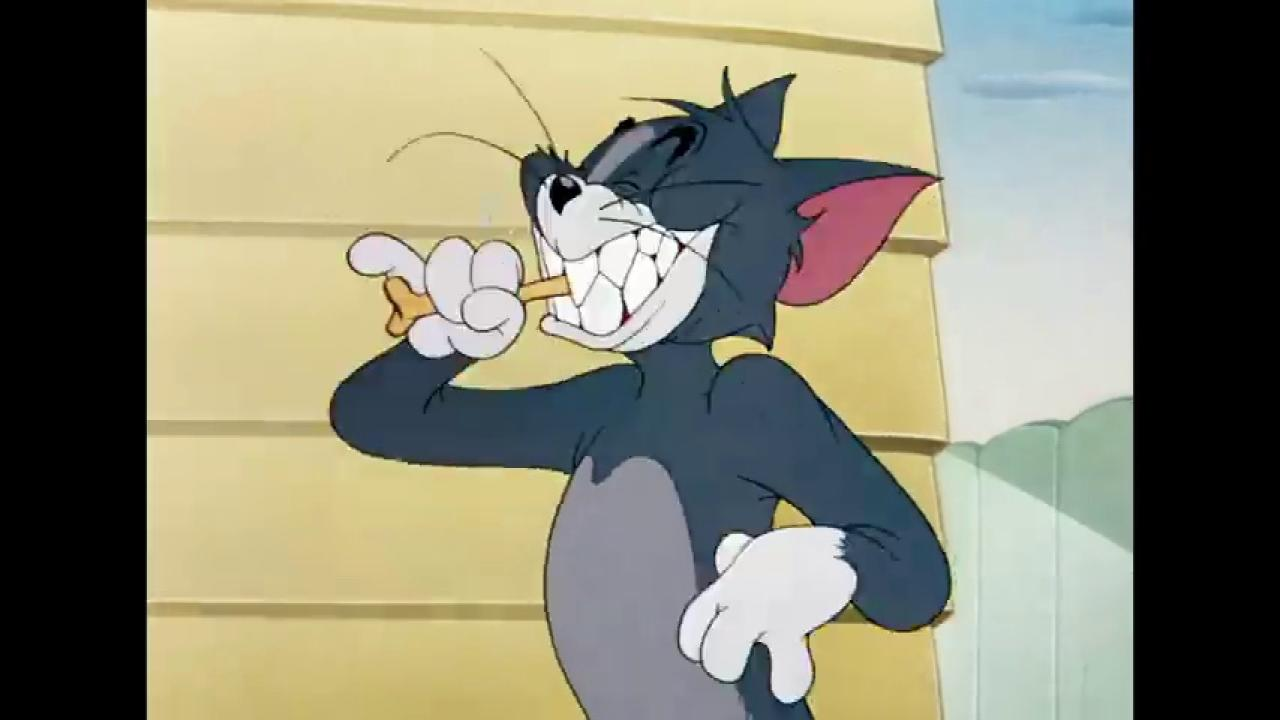Tom: (325, 66, 957, 720)
